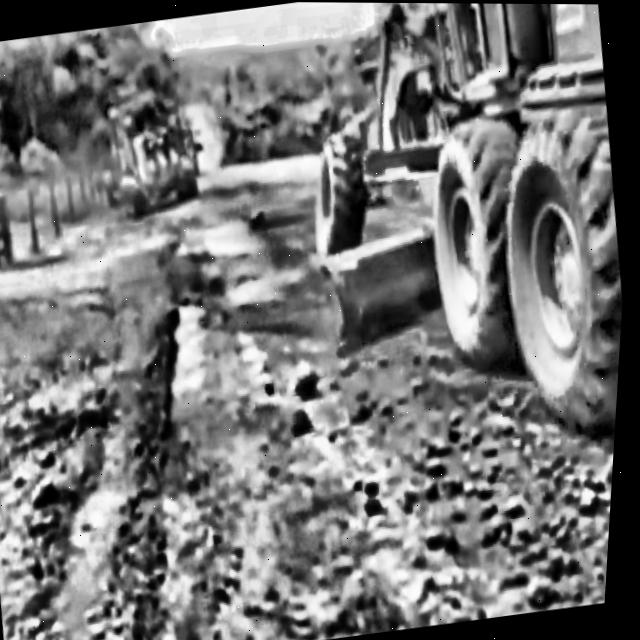buldozerpayloadergrader: (278, 2, 640, 451), (101, 84, 216, 214)
